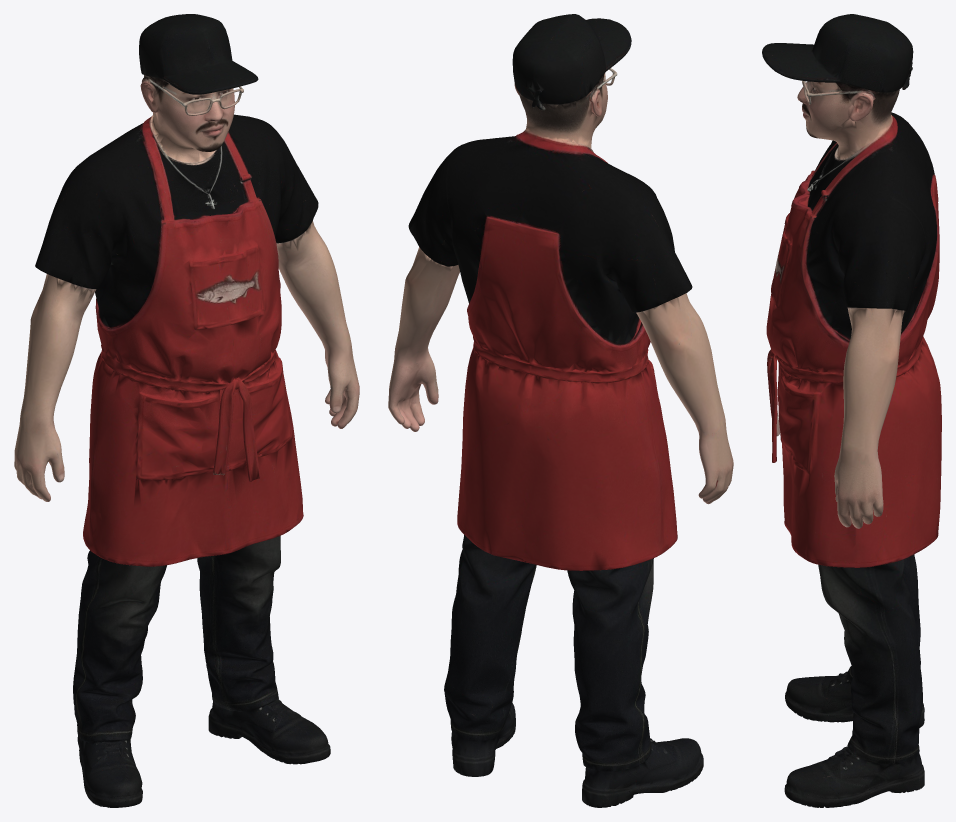
The model's file is modelo.glb.
3 views of the same model, side by side, from view 1: azimuth 30°, elevation 25°; view 2: azimuth 150°, elevation 25°; view 3: azimuth 270°, elevation 25° (orthographic).
Size of the model in its own units: 0.8706 by 1.85 by 0.41.
Materials: 1 (1 with a texture image).
